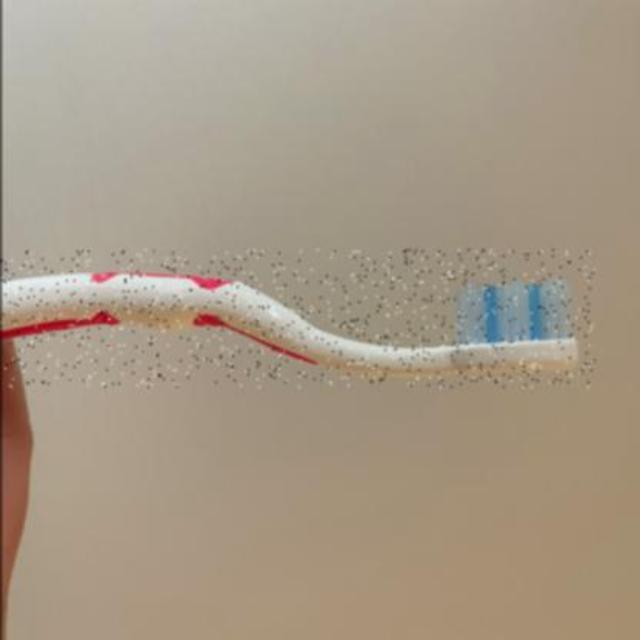toothbrush: (1, 249, 594, 387)
